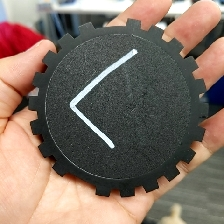gear: (26, 16, 211, 199)
missing: (51, 159, 113, 197), (78, 17, 144, 37)
